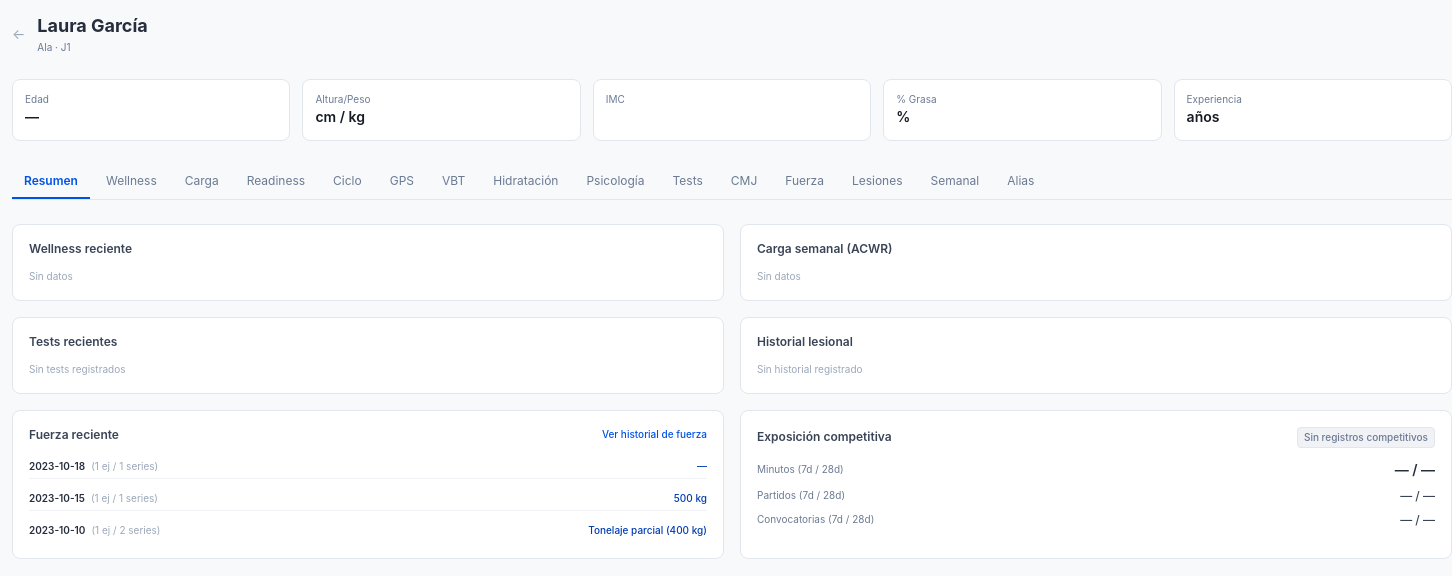
PlayerProfilePage (Pestaña e Historial de Fuerza) › 31. No existe botón o control funcional para dar de alta nuevo CicloMenstrual legado
Click the button "Ciclo": (347, 182) [321,164,374,198]
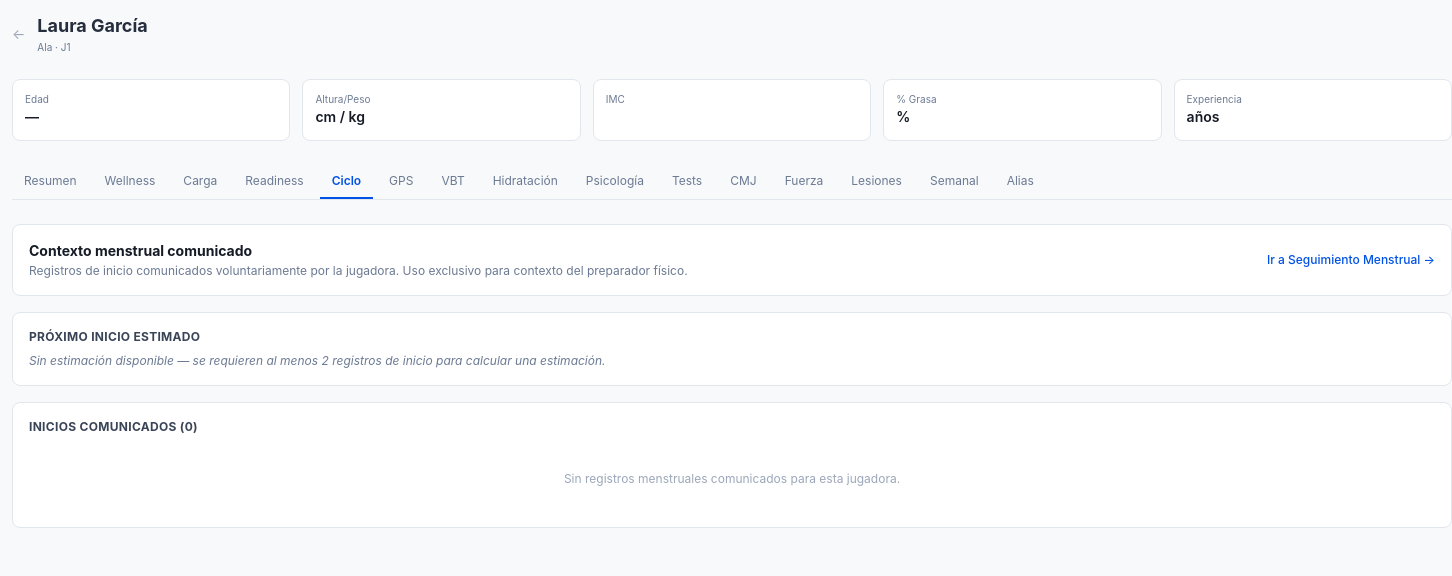
Check: the button "Ir a Seguimiento Menstrual →" is shown, box [1267,252,1435,268]
